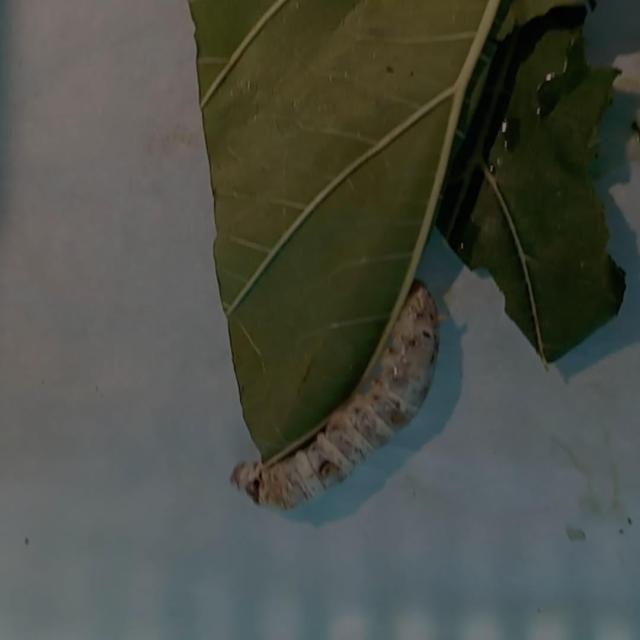Grasserie: (219, 281, 446, 520)
